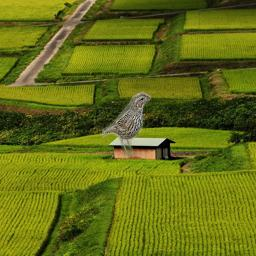Sparrow: (102, 91, 151, 156)
